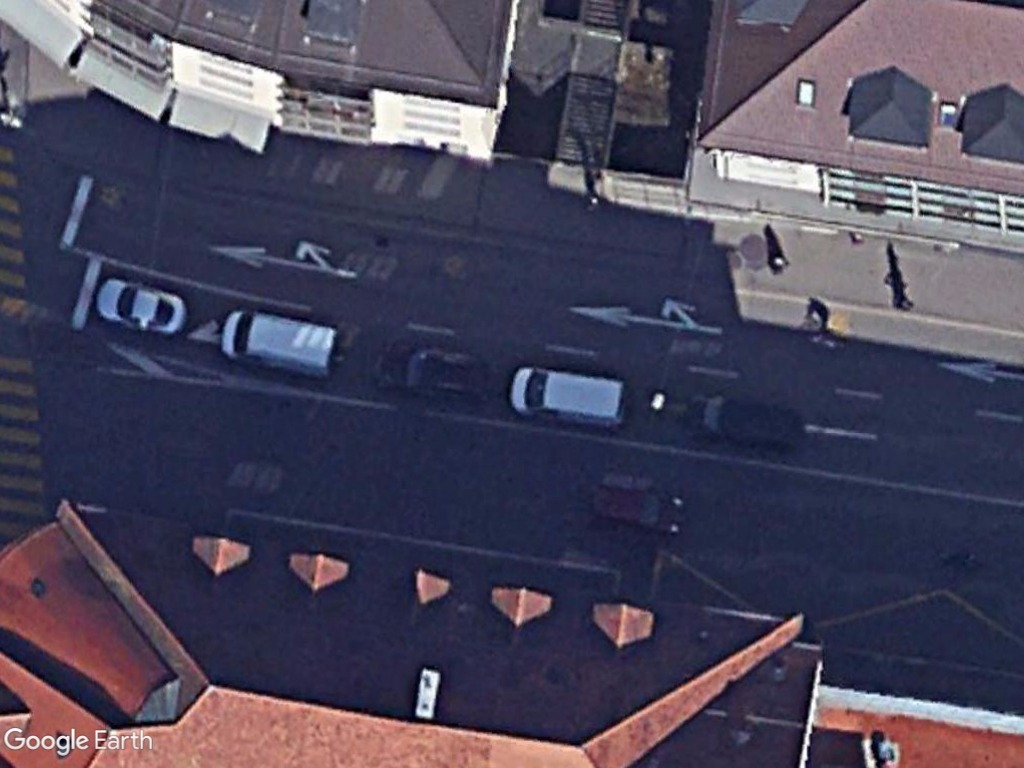car: (91, 272, 188, 340)
van: (216, 306, 342, 380), (504, 362, 633, 433)
